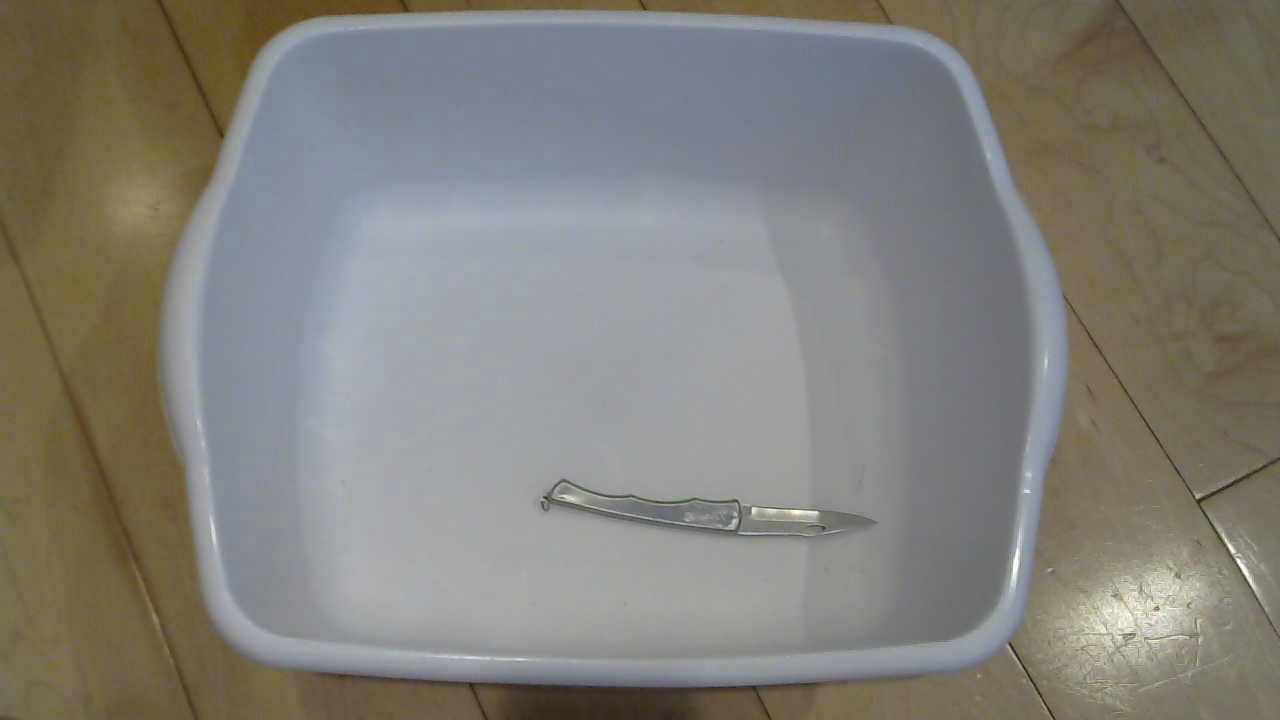knife: (515, 461, 890, 566)
